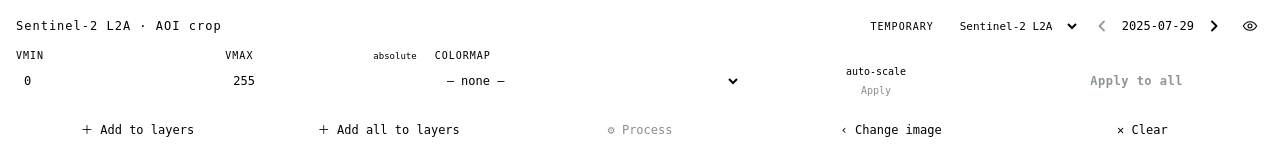
it: the dataset › shows the first image of the dataset that is chosen, and the head follows
Step 1. Select "Copernicus DEM" in the dropdown named "Dataset" → (1015, 26), box [950,12,1080,40]
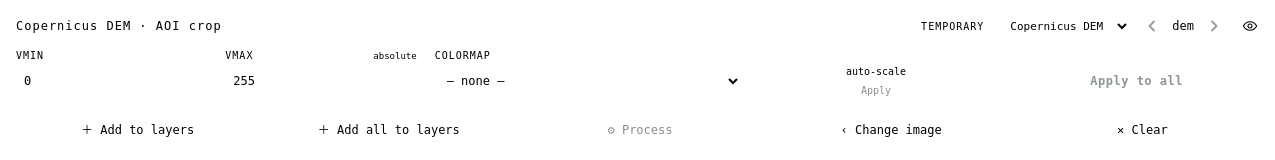
expect the text "Copernicus DEM · AOI crop" is shown: met, box [16,19,222,33]
